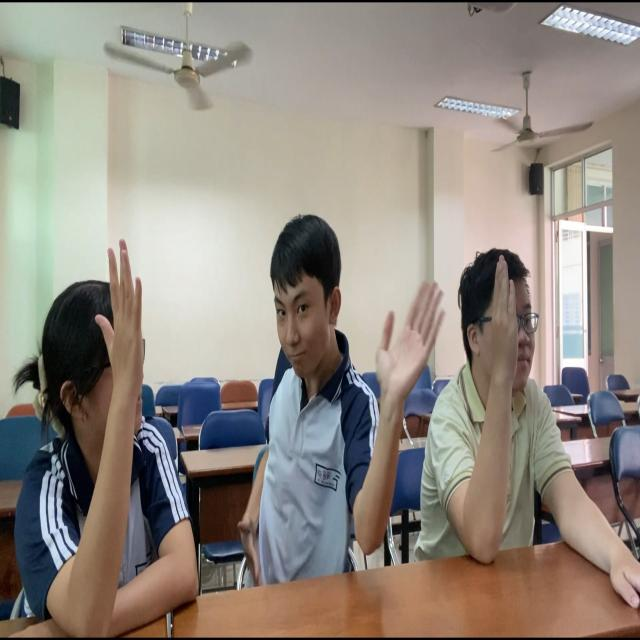raise_hand: (2, 220, 173, 630), (433, 243, 594, 605)
